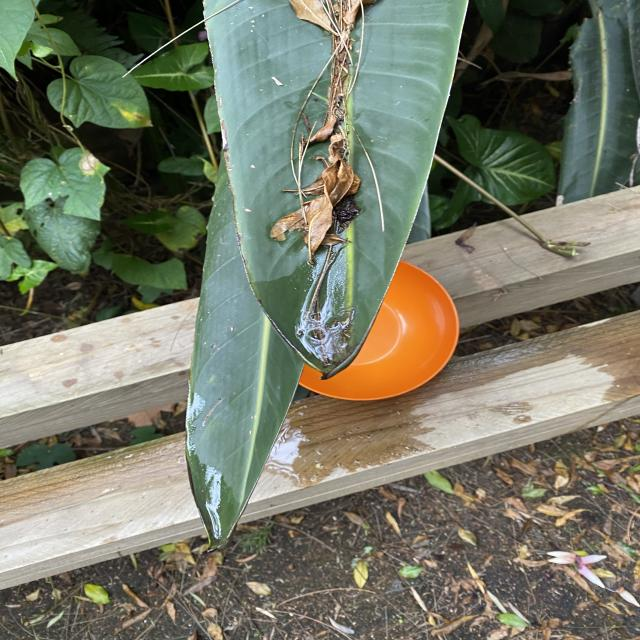bowl: (297, 259, 460, 402)
